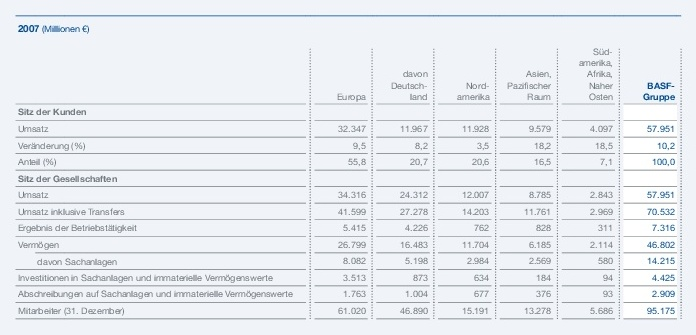table: (0, 0, 696, 335)
